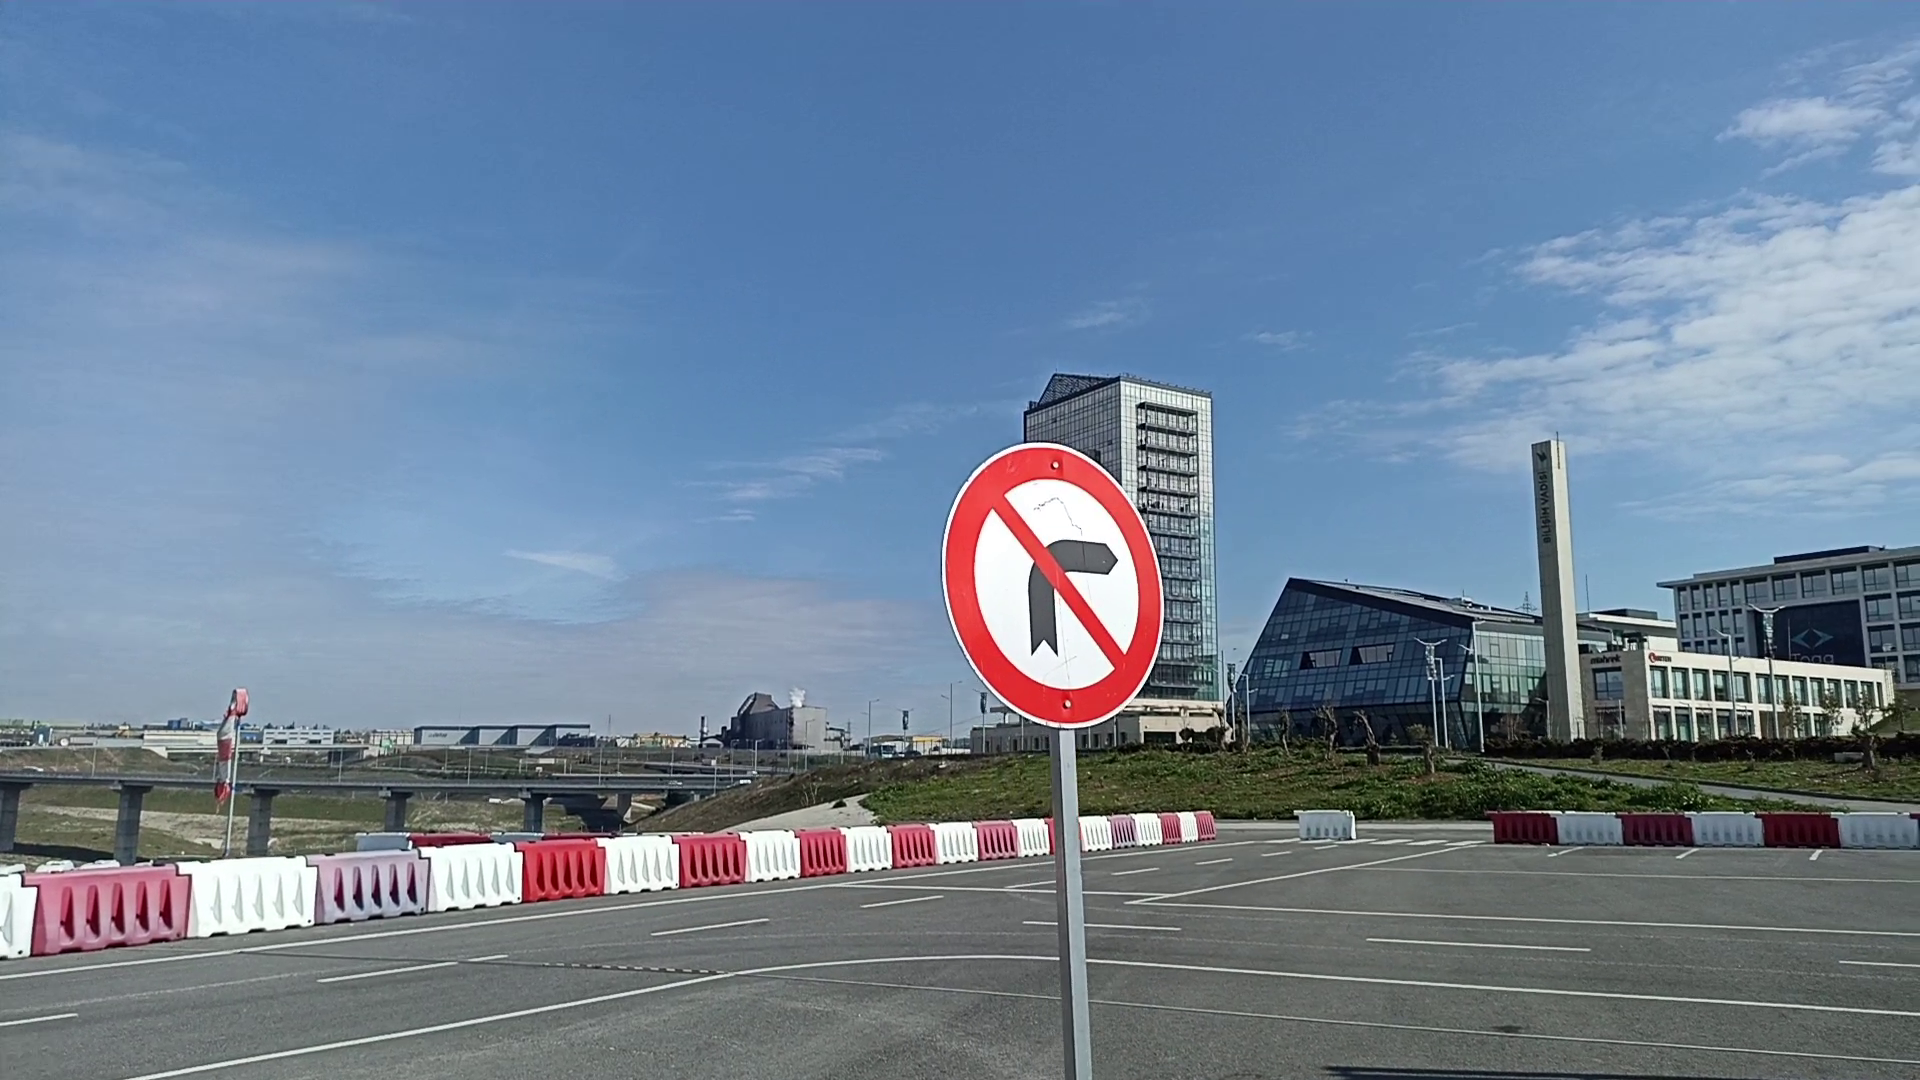noleftturn: (939, 438, 1167, 733)
